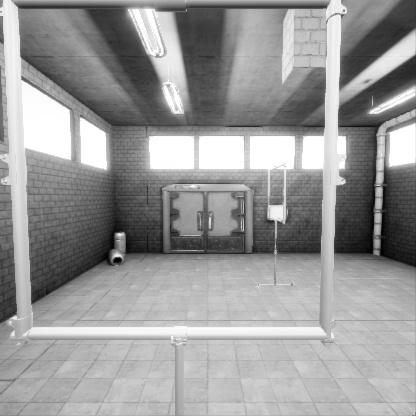gate: (42, 106, 350, 407), (268, 195, 286, 256)
